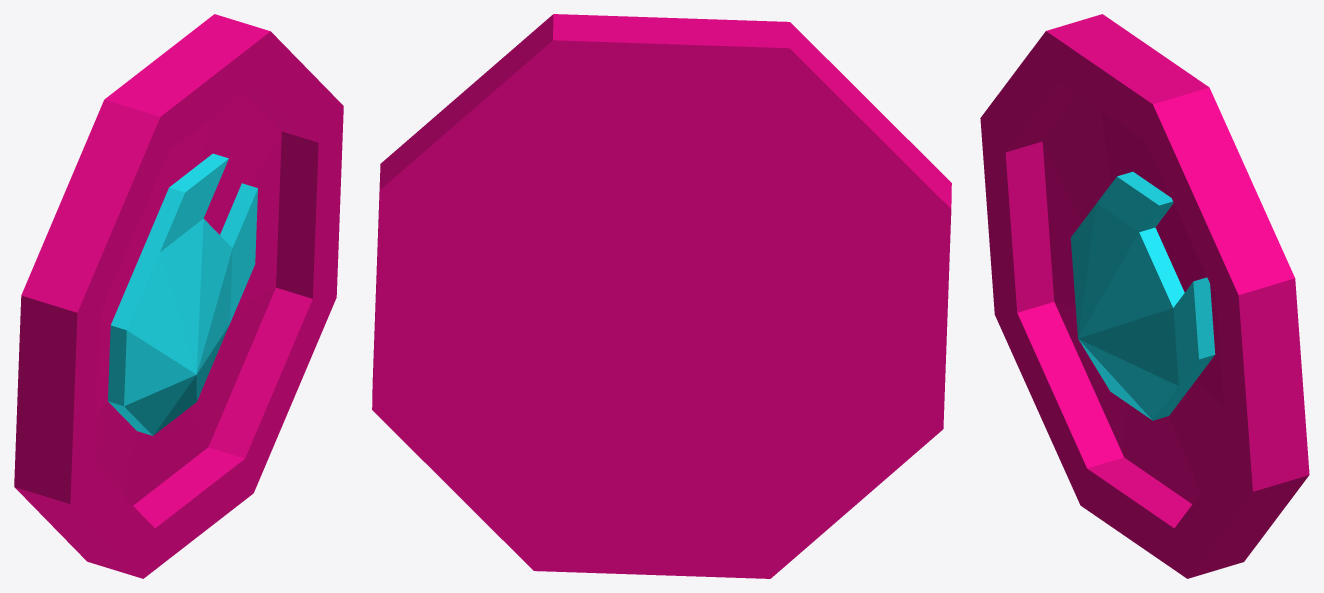
File: cats_token.gltf
3 views of the same model, side by side, from view 1: azimuth 30°, elevation 25°; view 2: azimuth 150°, elevation 25°; view 3: azimuth 270°, elevation 25° (orthographic). The views are drawn at different scales.
Visible parts, largest first — view 1: Cylinder.023; view 2: Cylinder.023; view 3: Cylinder.023.
Part boxes in pixels (bbox=[...]): Cylinder.023: bbox=[14, 14, 343, 578]; Cylinder.023: bbox=[372, 14, 951, 578]; Cylinder.023: bbox=[980, 14, 1309, 578].
Bounding box in the file's own units: 0.0949 × 0.1038 × 0.0639.
